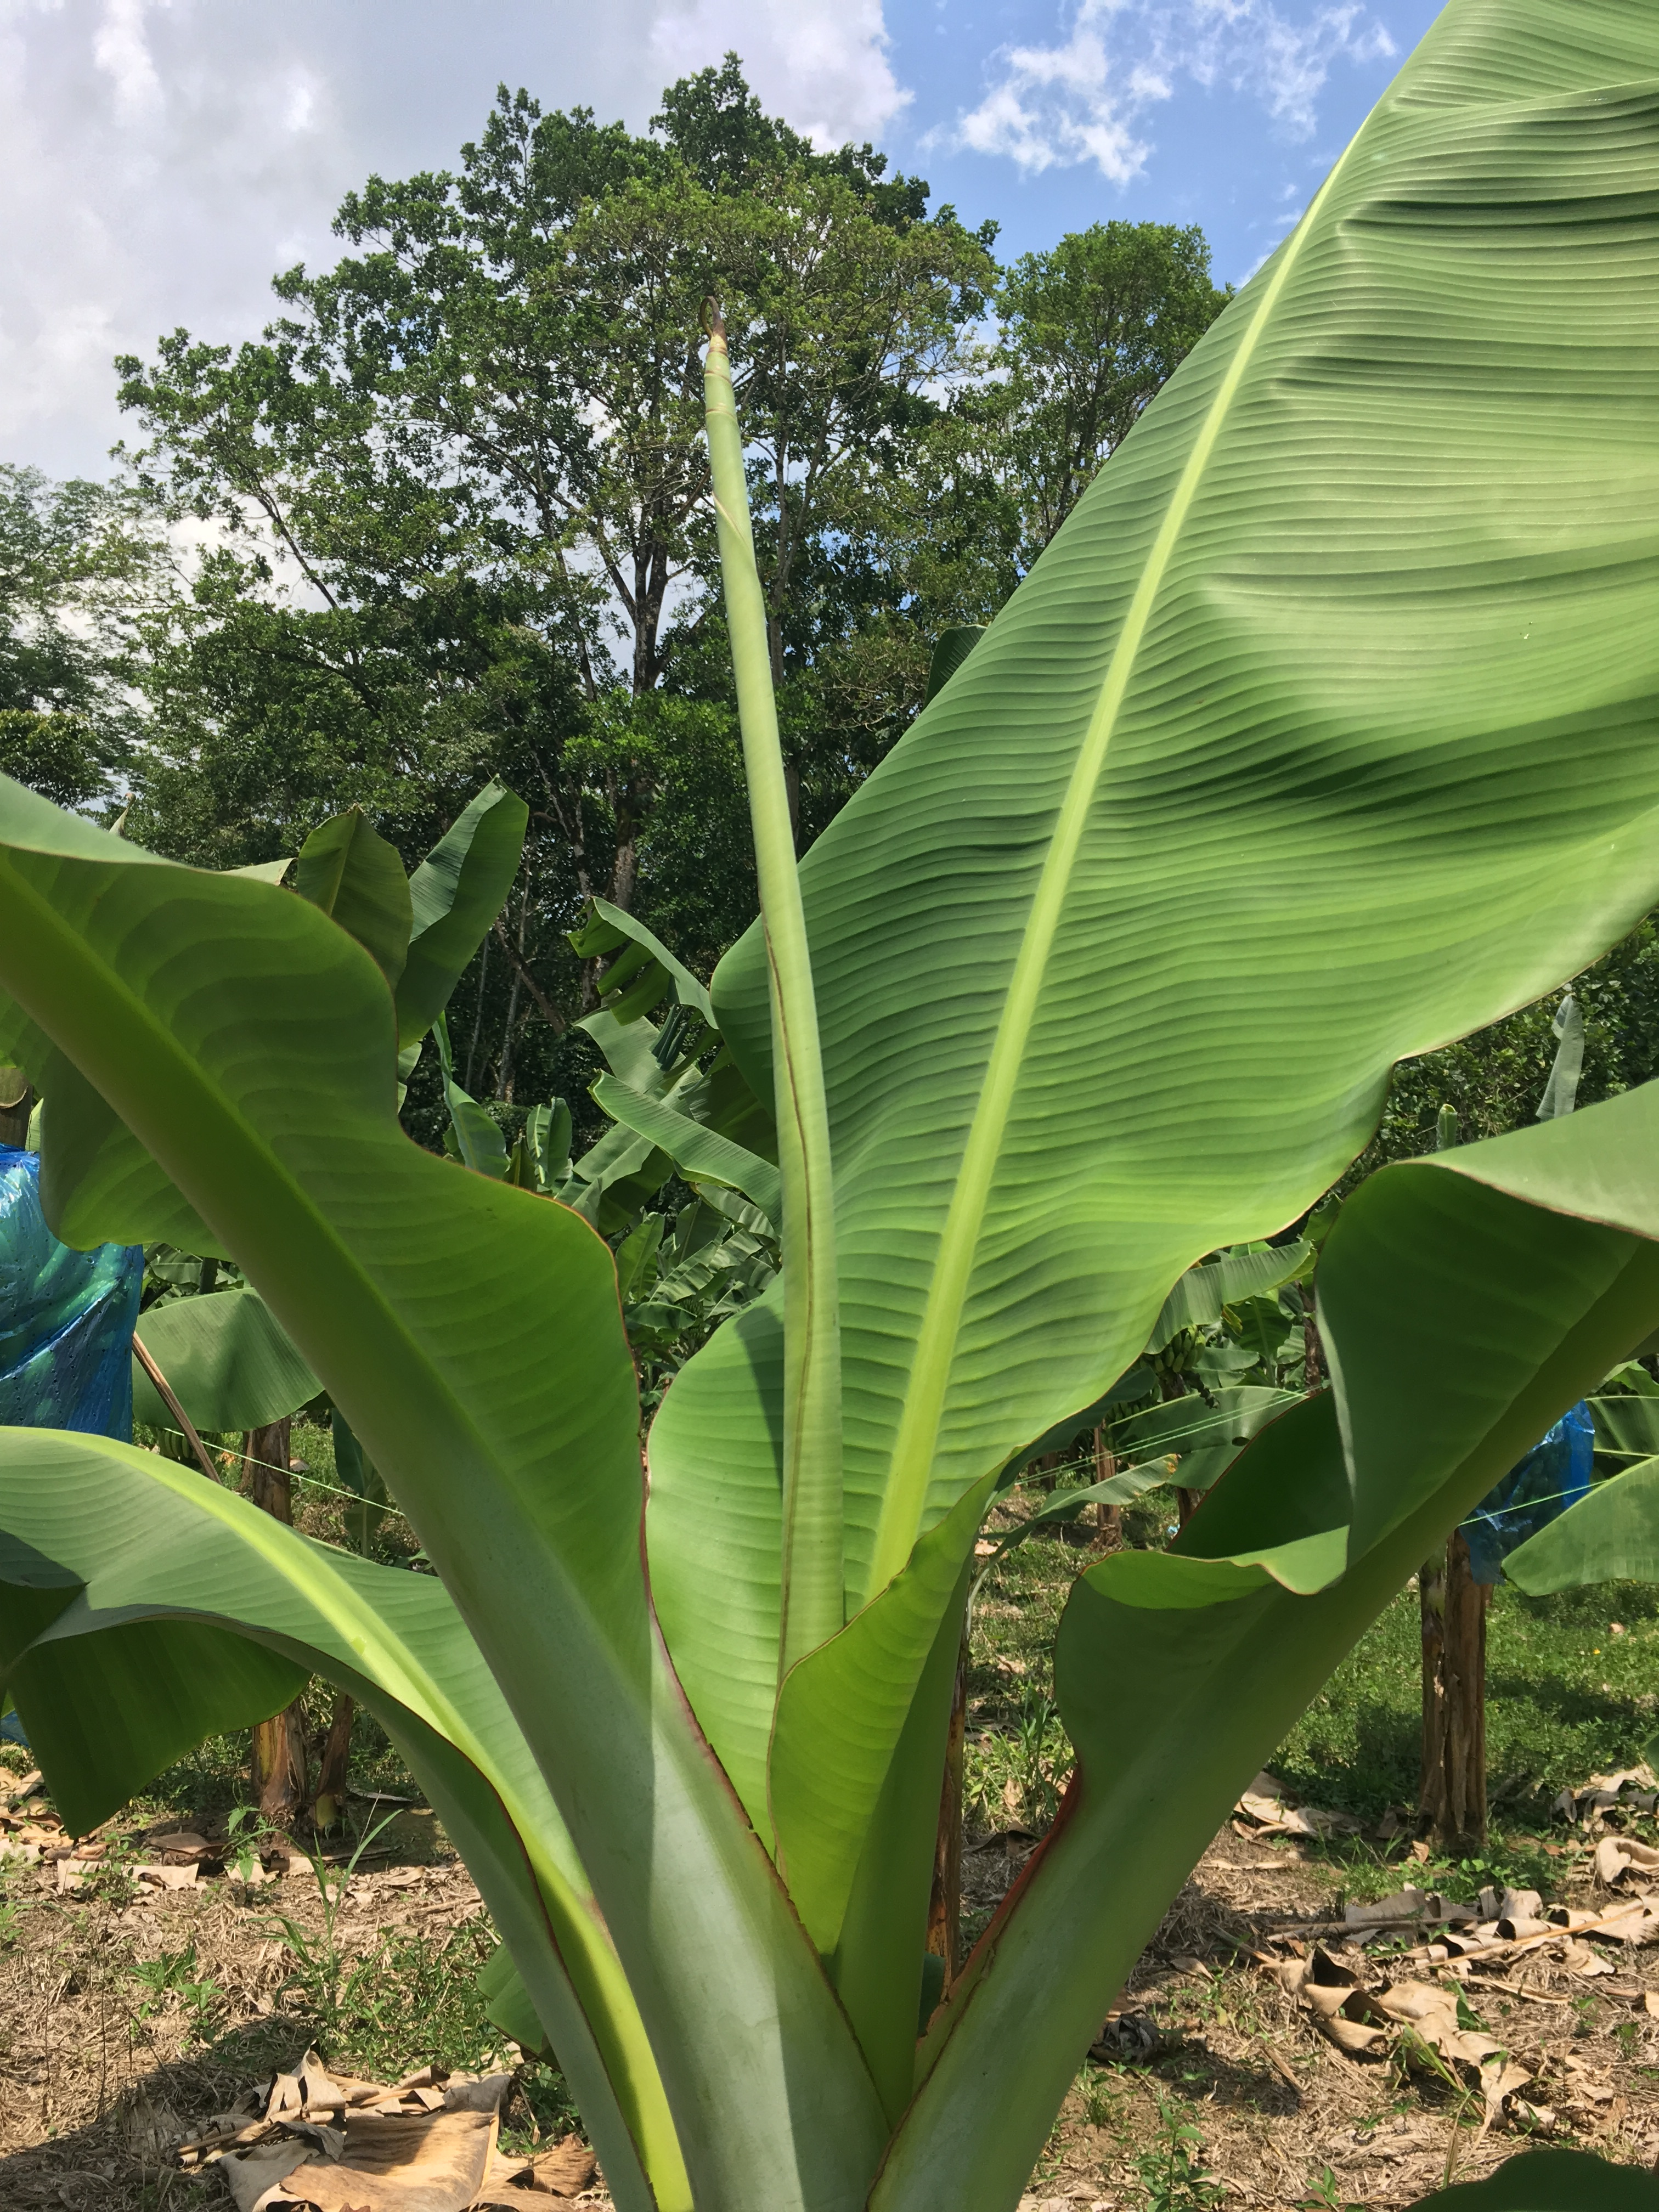candleleafs: (695, 294, 847, 1641)
